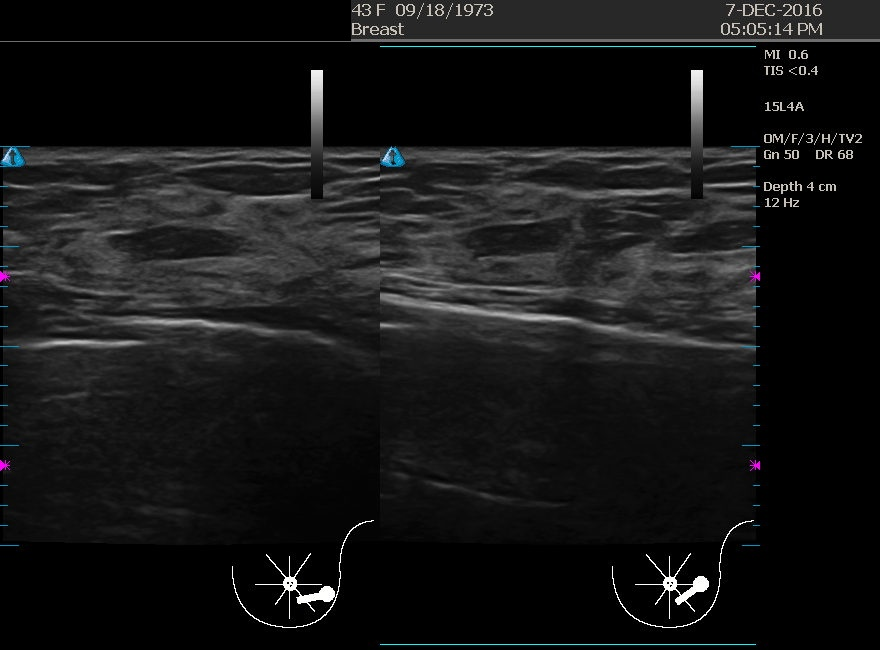BIRADS_3: (96, 152, 296, 352), (433, 153, 633, 353)
